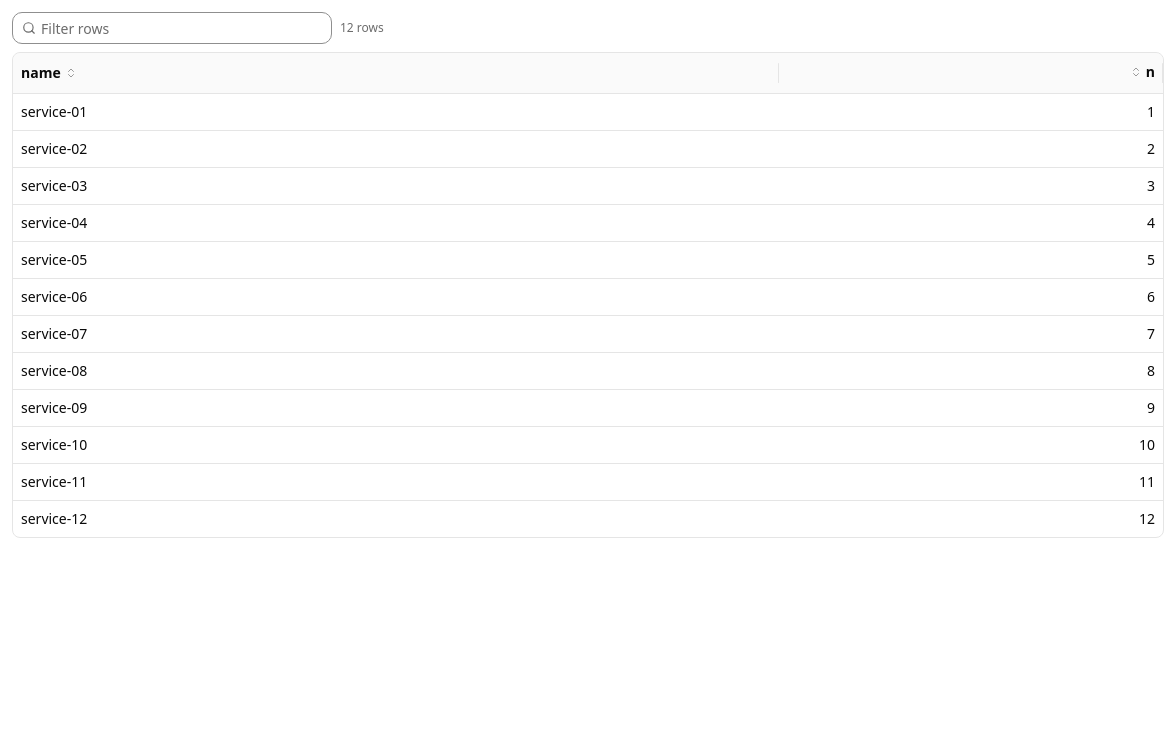
Test: table primitive › sorts numbers as numbers, both ways
Click the button "n": (1142, 72) [1130,62,1155,82]
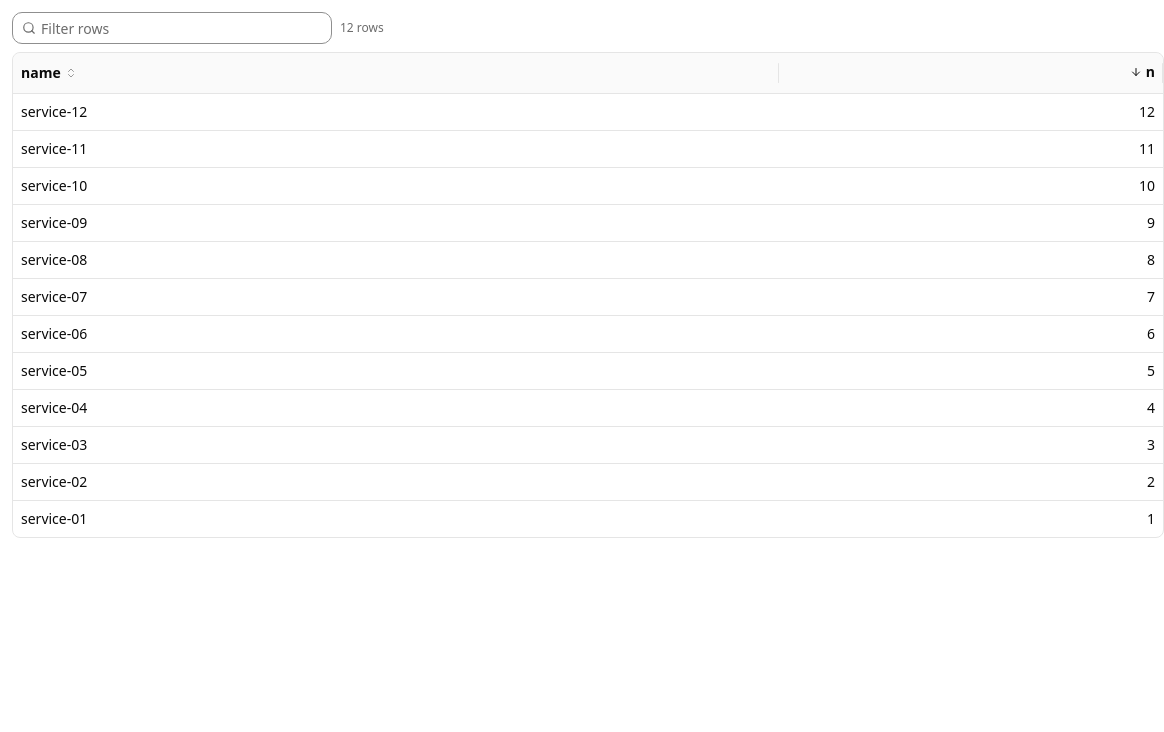
Click the button "n": (1142, 72) [1130,62,1155,82]
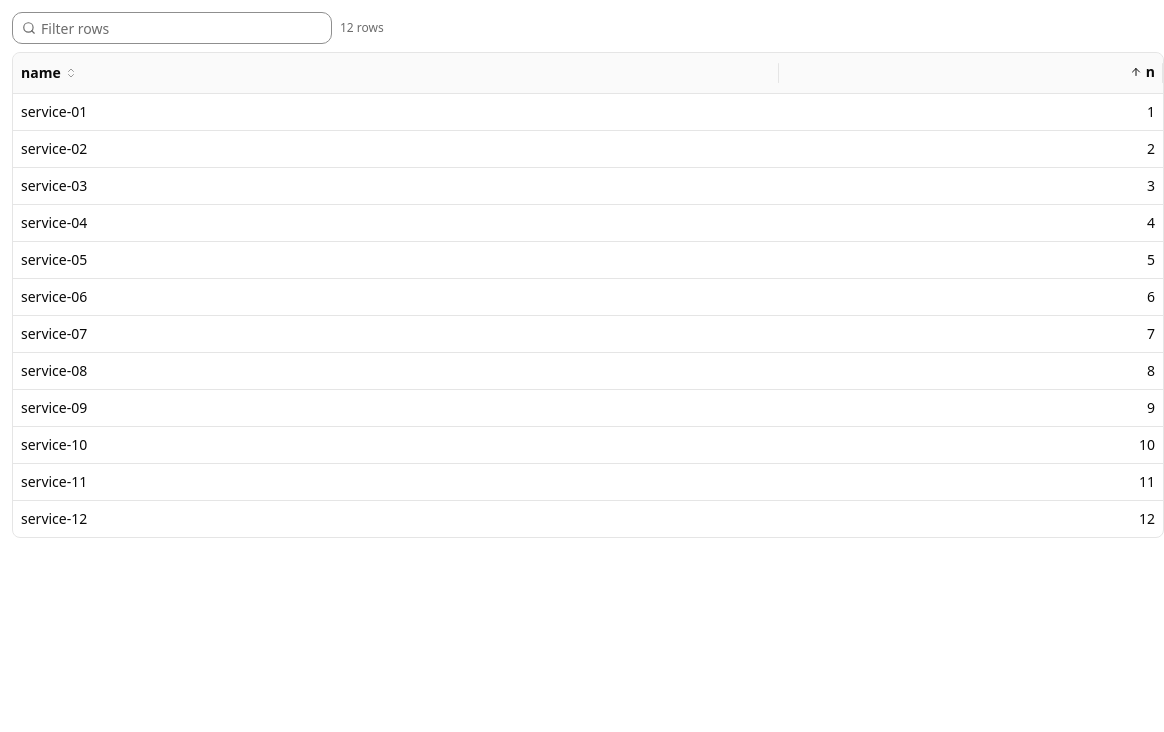
Now the column heading "n" does not have attribute aria-sort="descending", box [779,53,1163,93]
